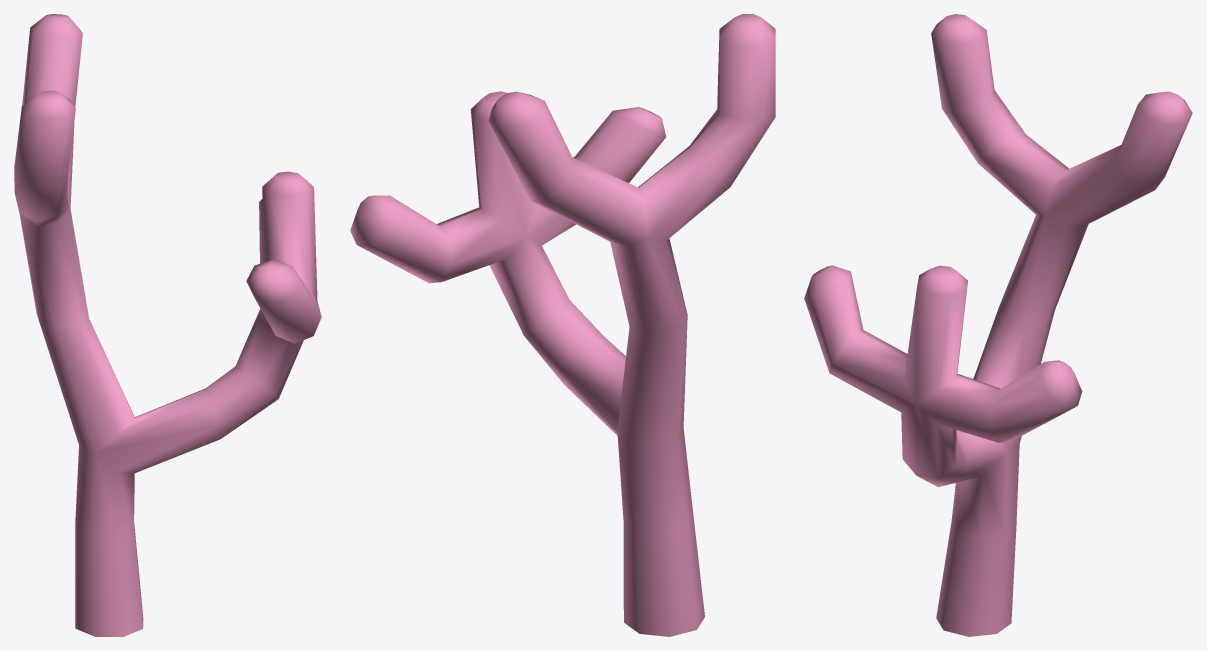
File: Sea_plant_1_2.002.fbx
The picture shows the model from 3 angles, left to right: view 1: azimuth 30°, elevation 25°; view 2: azimuth 150°, elevation 25°; view 3: azimuth 270°, elevation 25°; orthographic projection. The views are drawn at different scales.
Visible parts, largest first — view 1: Sea_plant_1_2.002; view 2: Sea_plant_1_2.002; view 3: Sea_plant_1_2.002.
Boxes of the visible parts, x1,y1,x2,y2 form: Sea_plant_1_2.002: [14, 14, 321, 636]; Sea_plant_1_2.002: [350, 14, 775, 636]; Sea_plant_1_2.002: [804, 14, 1192, 636].
Size of the model in its own units: 0.6088 by 0.9592 by 0.5948.
